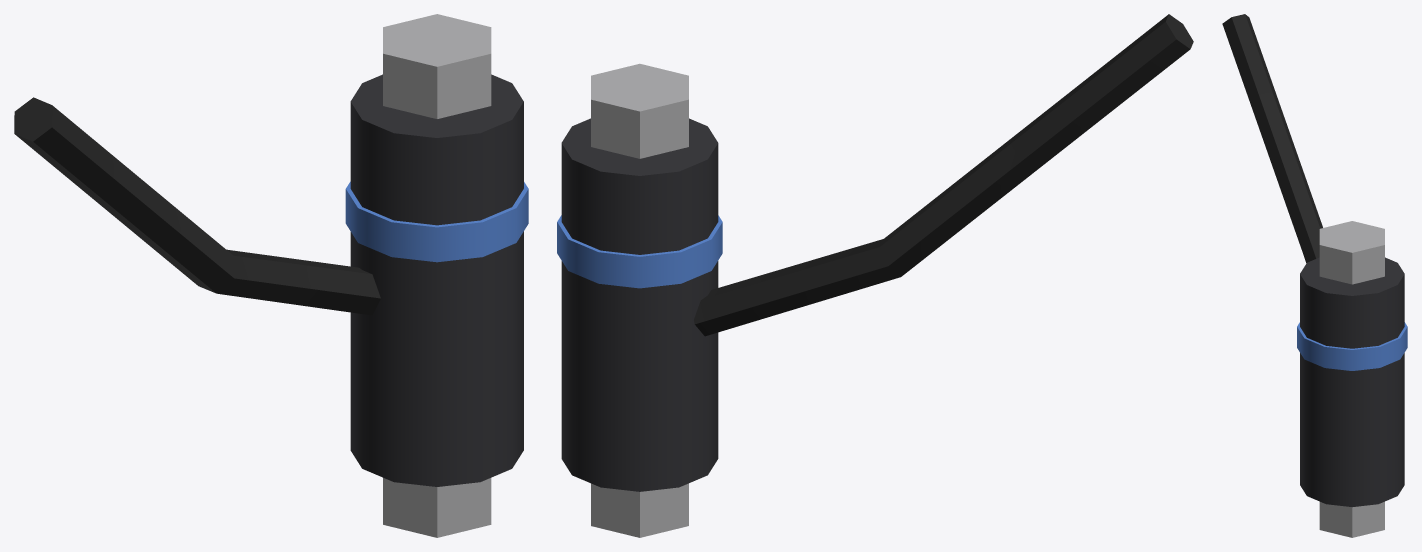
Rendered from quickshifter.glb.
The picture shows the model from 3 angles, left to right: view 1: azimuth 30°, elevation 25°; view 2: azimuth 150°, elevation 25°; view 3: azimuth 270°, elevation 25°; orthographic projection. The views are drawn at different scales.
Visible parts, largest first — view 1: quickshifter; view 2: quickshifter; view 3: quickshifter.
Part boxes in pixels (left/top/right/bottom): quickshifter: left=14, top=14, right=528, bottom=537; quickshifter: left=557, top=14, right=1193, bottom=537; quickshifter: left=1222, top=14, right=1407, bottom=537.
Bounding box in the file's own units: 0.0714 × 0.0687 × 0.0318.
